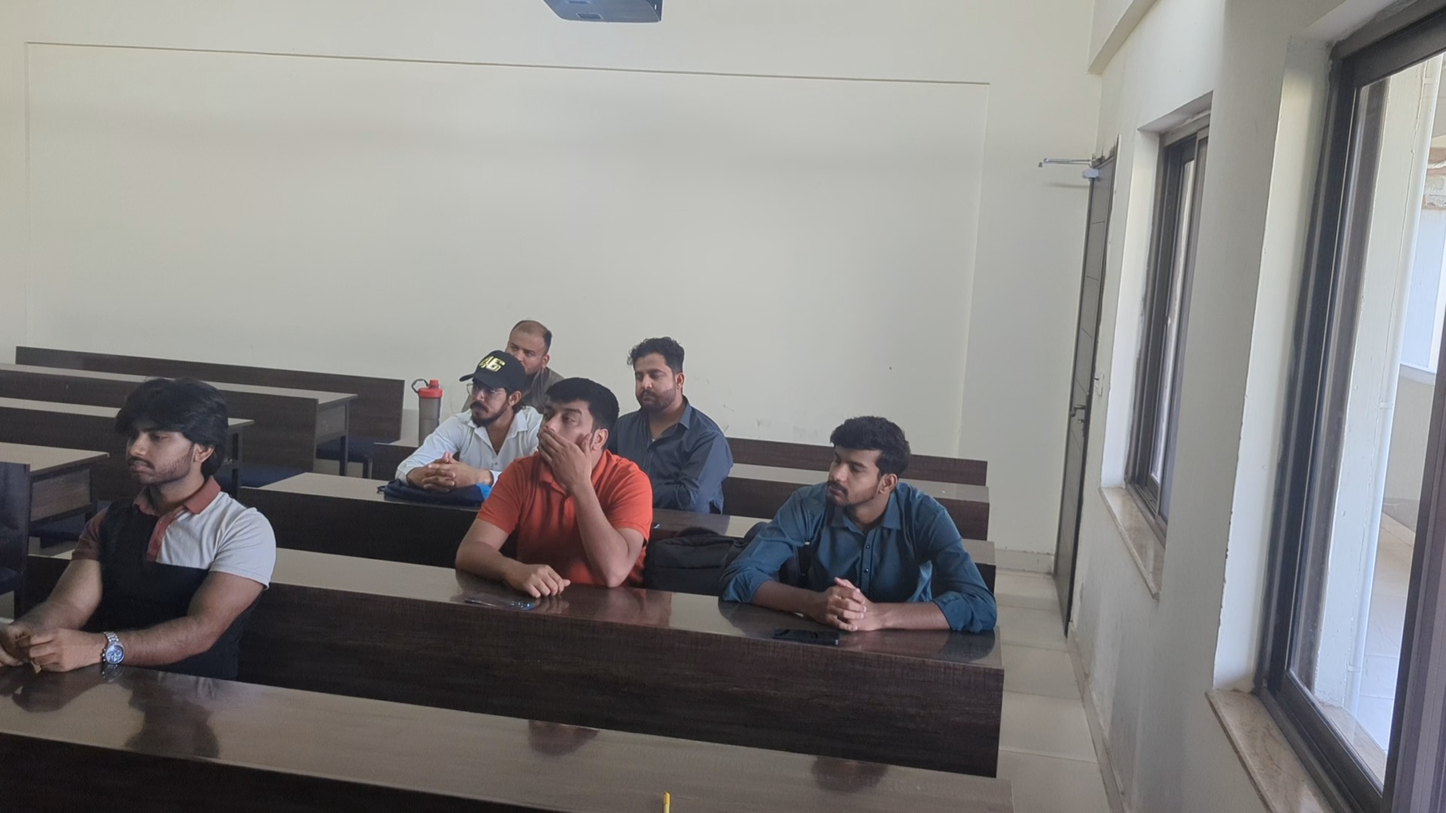look_forward: (108, 361, 311, 668), (519, 368, 635, 565), (795, 398, 917, 585), (624, 330, 721, 491), (505, 313, 610, 411), (434, 346, 511, 470)
